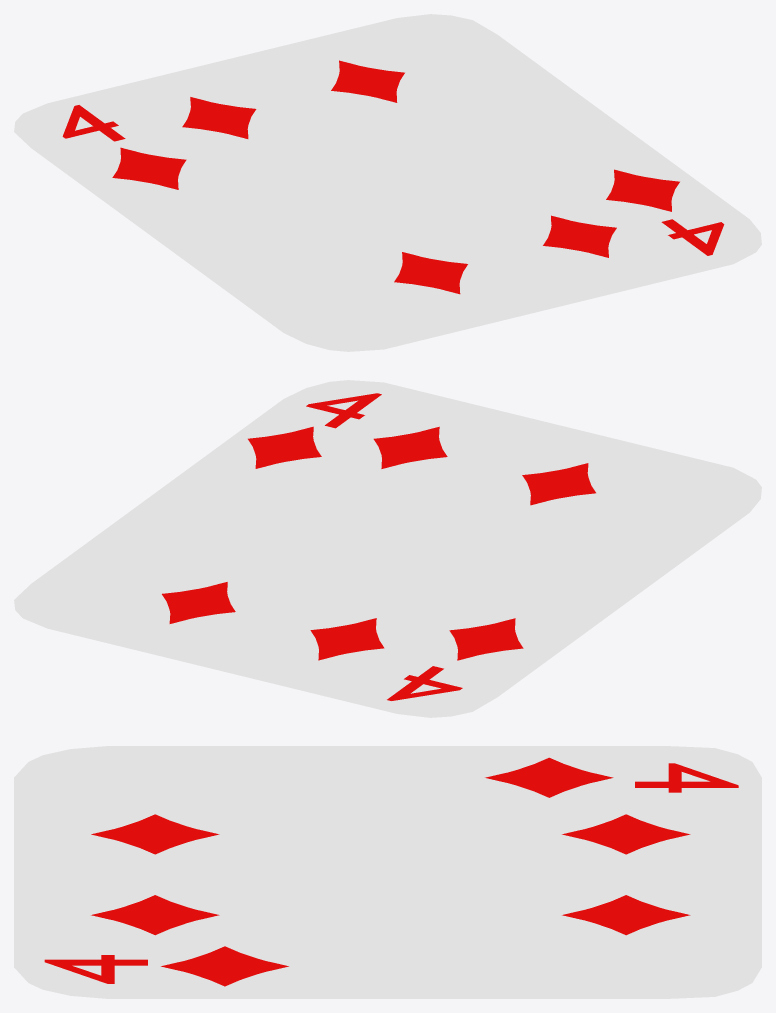
3 views of the same model, one above another, from view 1: azimuth 30°, elevation 25°; view 2: azimuth 150°, elevation 25°; view 3: azimuth 270°, elevation 25° (orthographic). The views are drawn at different scales.
Parts seen in each view (by area): view 1: 4ofDiamonds, AceSpadesFro_Whit.032, Plane.017_Materia, Plane.014_Materia, Plane.018_Materia, Plane.015_Materia, Plane.016_Materia, Plane.019_Materia, Font.008_Bla_Blac.001, Font.007_Bla_Blac.001; view 2: 4ofDiamonds, AceSpadesFro_Whit.032, Plane.014_Materia, Plane.015_Materia, Plane.017_Materia, Plane.018_Materia, Plane.019_Materia, Plane.016_Materia, Font.007_Bla_Blac.001, Font.008_Bla_Blac.001; view 3: 4ofDiamonds, AceSpadesFro_Whit.032, Plane.014_Materia, Plane.015_Materia, Plane.019_Materia, Plane.017_Materia, Plane.018_Materia, Plane.016_Materia, Font.008_Bla_Blac.001, Font.007_Bla_Blac.001.
Boxes of the visible parts, bbox=[...] form: 4ofDiamonds: bbox=[14, 14, 711, 351]; AceSpadesFro_Whit.032: bbox=[142, 14, 761, 351]; Plane.017_Materia: bbox=[112, 147, 186, 189]; Plane.014_Materia: bbox=[394, 252, 467, 294]; Plane.018_Materia: bbox=[331, 60, 404, 102]; Plane.015_Materia: bbox=[182, 97, 256, 138]; Plane.016_Materia: bbox=[606, 169, 679, 211]; Plane.019_Materia: bbox=[543, 215, 616, 257]; Font.008_Bla_Blac.001: bbox=[661, 219, 724, 255]; Font.007_Bla_Blac.001: bbox=[62, 105, 125, 141]; 4ofDiamonds: bbox=[42, 380, 761, 717]; AceSpadesFro_Whit.032: bbox=[14, 380, 653, 717]; Plane.014_Materia: bbox=[522, 463, 595, 505]; Plane.015_Materia: bbox=[310, 618, 384, 660]; Plane.017_Materia: bbox=[449, 618, 523, 660]; Plane.018_Materia: bbox=[162, 582, 235, 623]; Plane.019_Materia: bbox=[373, 426, 447, 468]; Plane.016_Materia: bbox=[248, 426, 321, 468]; Font.007_Bla_Blac.001: bbox=[387, 666, 462, 700]; Font.008_Bla_Blac.001: bbox=[306, 393, 381, 428]; 4ofDiamonds: bbox=[14, 746, 761, 998]; AceSpadesFro_Whit.032: bbox=[14, 833, 761, 998]; Plane.014_Materia: bbox=[91, 814, 219, 854]; Plane.015_Materia: bbox=[562, 814, 690, 854]; Plane.019_Materia: bbox=[91, 895, 219, 935]; Plane.017_Materia: bbox=[485, 757, 613, 797]; Plane.018_Materia: bbox=[562, 895, 690, 935]; Plane.016_Materia: bbox=[161, 946, 288, 986]; Font.008_Bla_Blac.001: bbox=[44, 955, 147, 983]; Font.007_Bla_Blac.001: bbox=[635, 763, 738, 792].
Size of the model in its own units: 1.6 by 0.00974 by 2.
